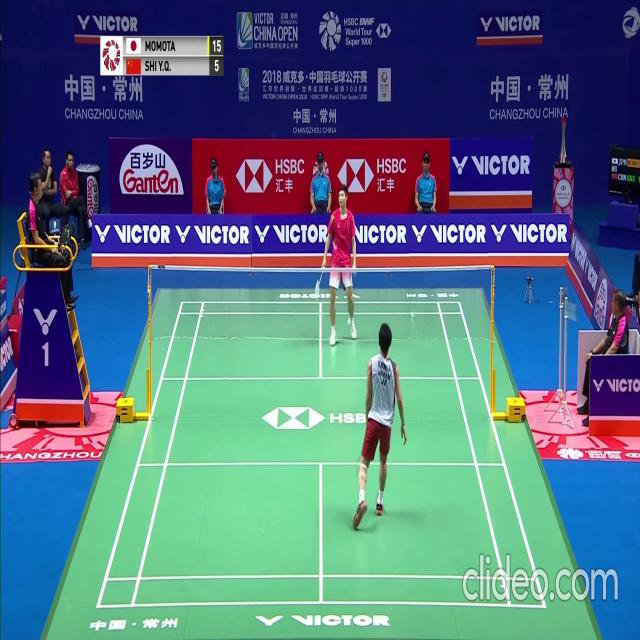Shuttlecock: (410, 312, 414, 319)
